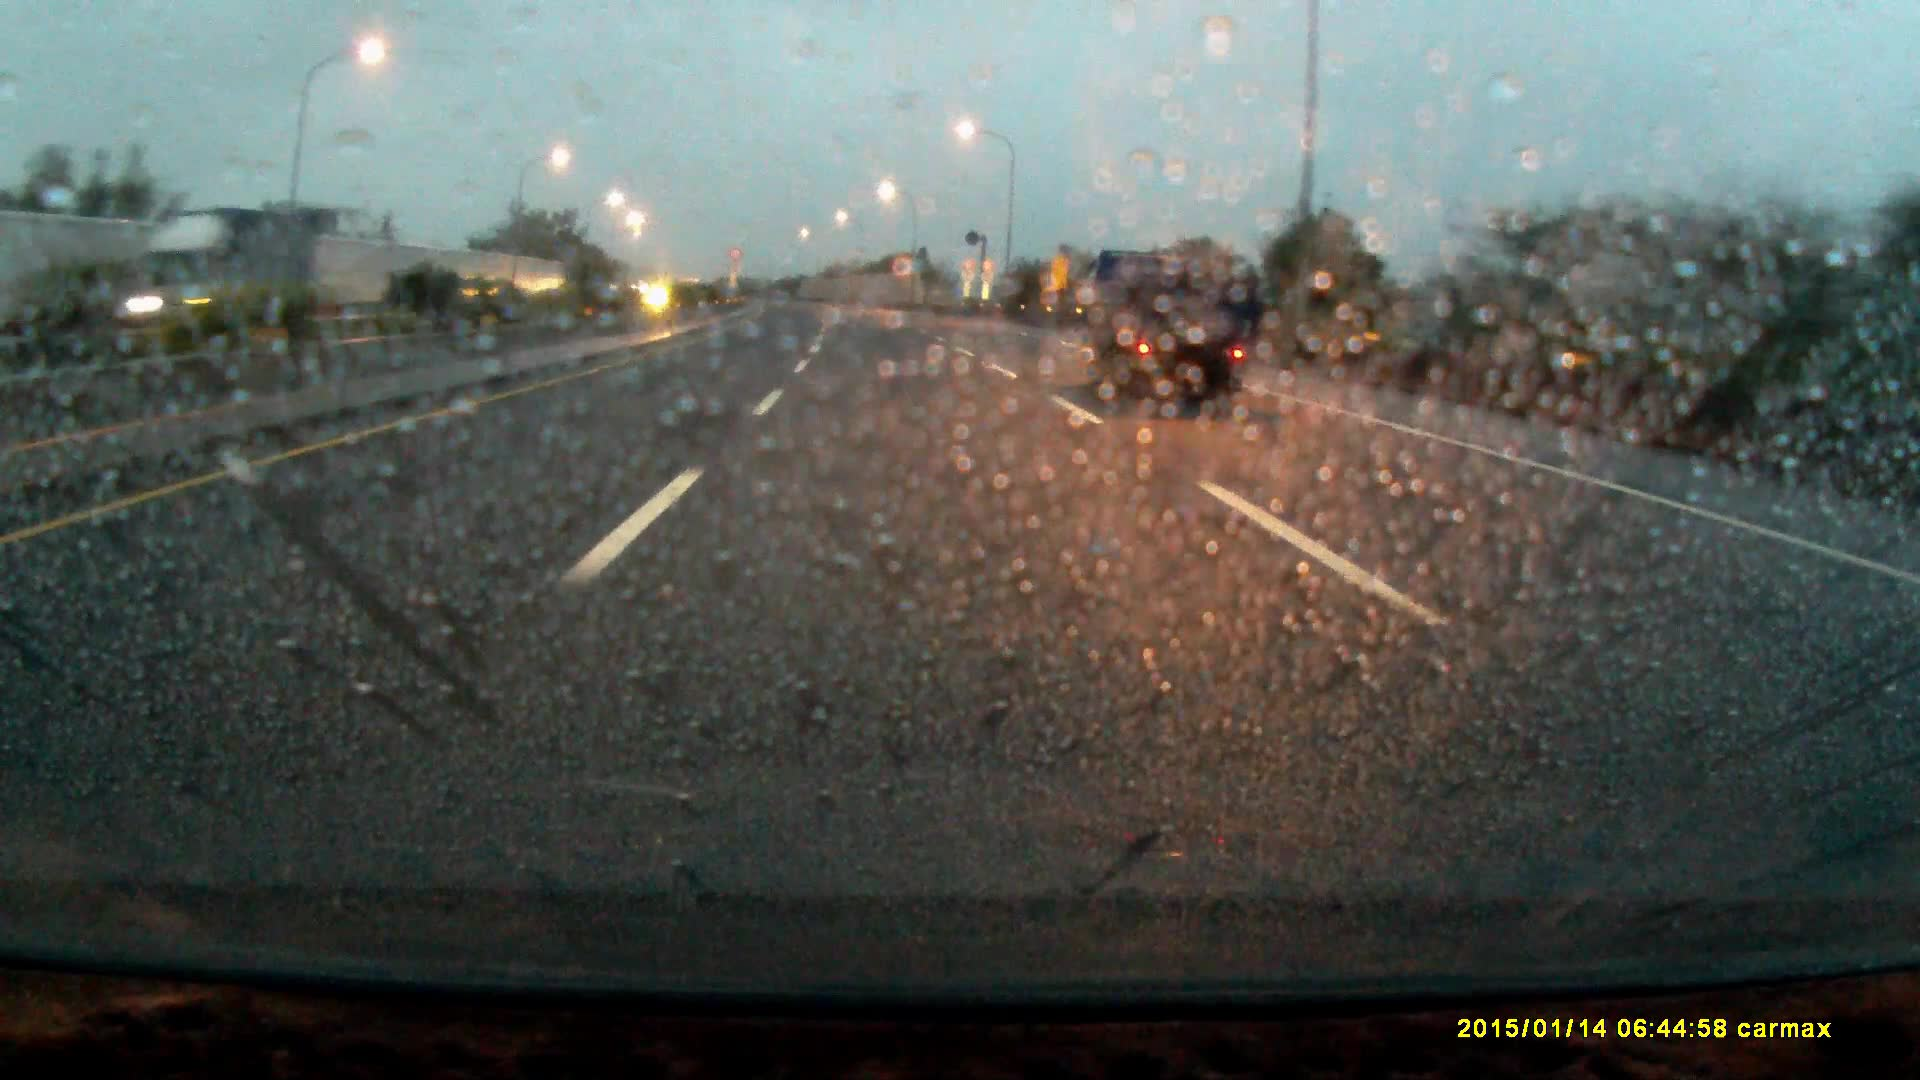vehicle: (1073, 247, 1244, 407), (146, 208, 299, 338)
